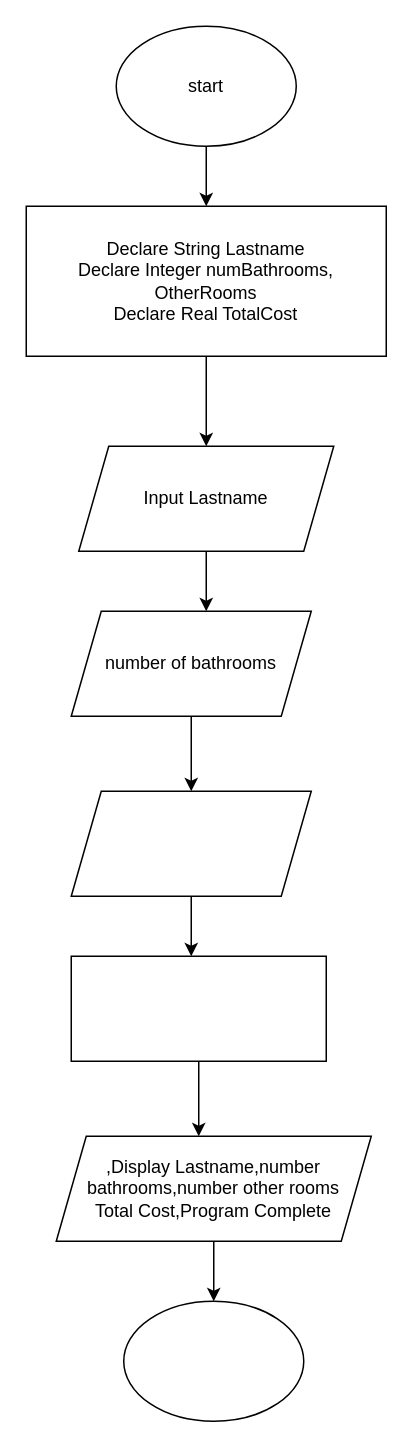
This 413x1448 diagram has some shape labels left out. The centre of each missing label's shape, as x and y in pixels:
"End" goes at (213,1360).
"Full Cost =40 + number of bathrooms 15 + number of rooms 10" goes at (198,1008).
"number of rooms" goes at (190,843).
